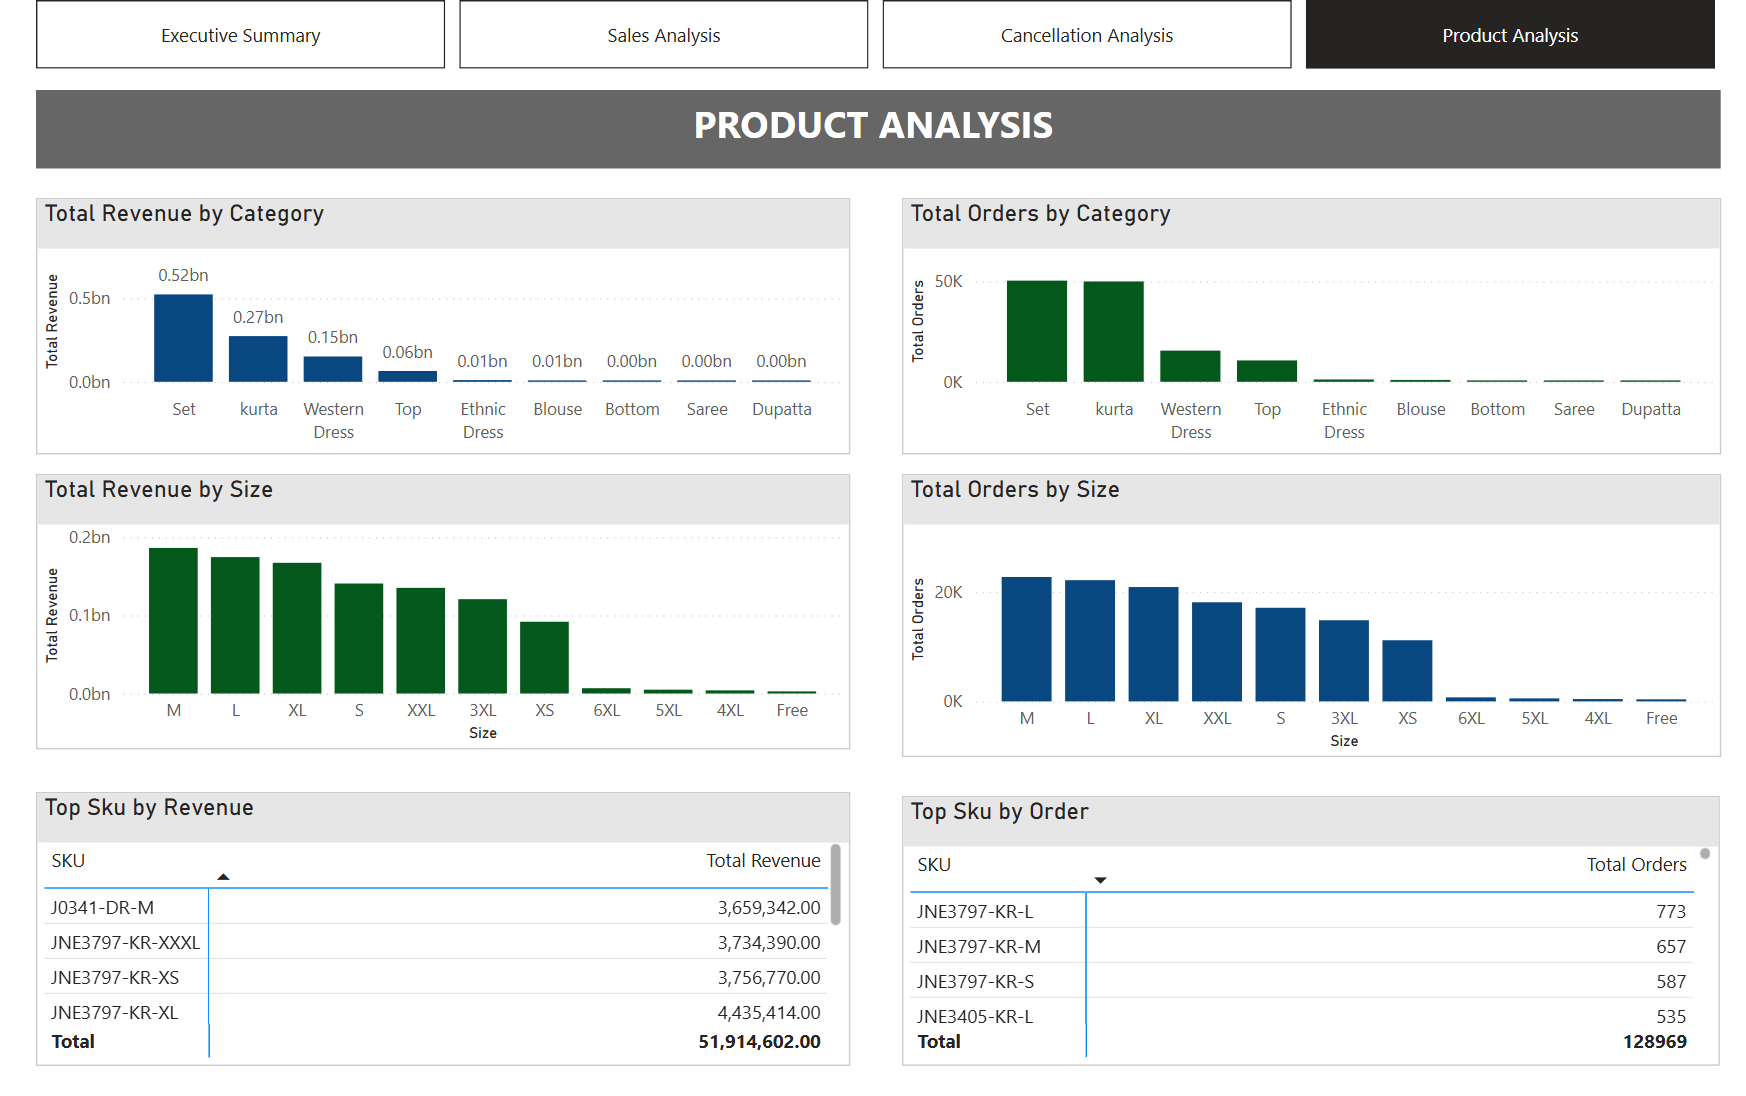

What the dashboard file says about the page in this screenshot:
{"tool":"powerbi","page":{"name":"Product Analysis","canvas":[1280,787],"ordinal":3},"visuals":[{"type":"columnChart","fields":{"Category":["AMAZONREPORT_BACKUP.Category"],"Y":["AMAZONREPORT_BACKUP.Total Revenue"]},"box":[39.9,141.1,580.9,183.1],"z":0},{"type":"columnChart","fields":{"Y":["AMAZONREPORT_BACKUP.Total Orders"],"Category":["AMAZONREPORT_BACKUP.Category"]},"box":[657.9,141.1,584.3,183.1],"z":1000},{"type":"columnChart","fields":{"Category":["AMAZONREPORT_BACKUP.Size"],"Y":["AMAZONREPORT_BACKUP.Total Revenue"]},"box":[39.9,337.7,580.9,196.6],"z":2000},{"type":"columnChart","fields":{"Y":["AMAZONREPORT_BACKUP.Total Orders"],"Category":["AMAZONREPORT_BACKUP.Size"]},"box":[657.9,337.7,584.3,202.2],"z":3000},{"type":"pivotTable","title":"Top Sku by Revenue ","fields":{"Rows":["AMAZONREPORT_BACKUP.SKU"],"Values":["AMAZONREPORT_BACKUP.Total Revenue"]},"box":[39.9,564.7,580.9,195.5],"z":4000},{"type":"pivotTable","title":"Top Sku by Order","fields":{"Rows":["AMAZONREPORT_BACKUP.SKU"],"Values":["AMAZONREPORT_BACKUP.Total Orders"]},"box":[657.9,567.4,583.7,192.4],"z":5000},{"type":"textbox","box":[39.9,64.7,1202.2,56.2],"z":6000},{"type":"pageNavigator","box":[40,0,1201.5,49.9],"z":6001}]}

Visuals, with their boxes in screenshot pixels (x1, y1, x2, y2), scaled from the page's 1280x787 canvas onto the 1746x1096 screenshot:
columnChart - AMAZONREPORT_BACKUP.Category x AMAZONREPORT_BACKUP.Total Revenue: l=54, t=197, r=847, b=451
columnChart - AMAZONREPORT_BACKUP.Total Orders x AMAZONREPORT_BACKUP.Category: l=897, t=197, r=1694, b=451
columnChart - AMAZONREPORT_BACKUP.Size x AMAZONREPORT_BACKUP.Total Revenue: l=54, t=470, r=847, b=744
columnChart - AMAZONREPORT_BACKUP.Total Orders x AMAZONREPORT_BACKUP.Size: l=897, t=470, r=1694, b=752
"Top Sku by Revenue " pivotTable: l=54, t=786, r=847, b=1059
"Top Sku by Order" pivotTable: l=897, t=790, r=1694, b=1058
textbox: l=54, t=90, r=1694, b=168
pageNavigator: l=55, t=0, r=1693, b=69
